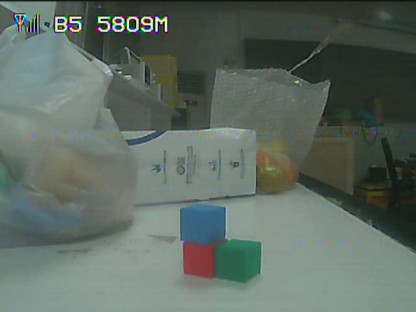b: (181, 204, 224, 238)
g: (215, 242, 259, 280)
r: (184, 241, 214, 275)
